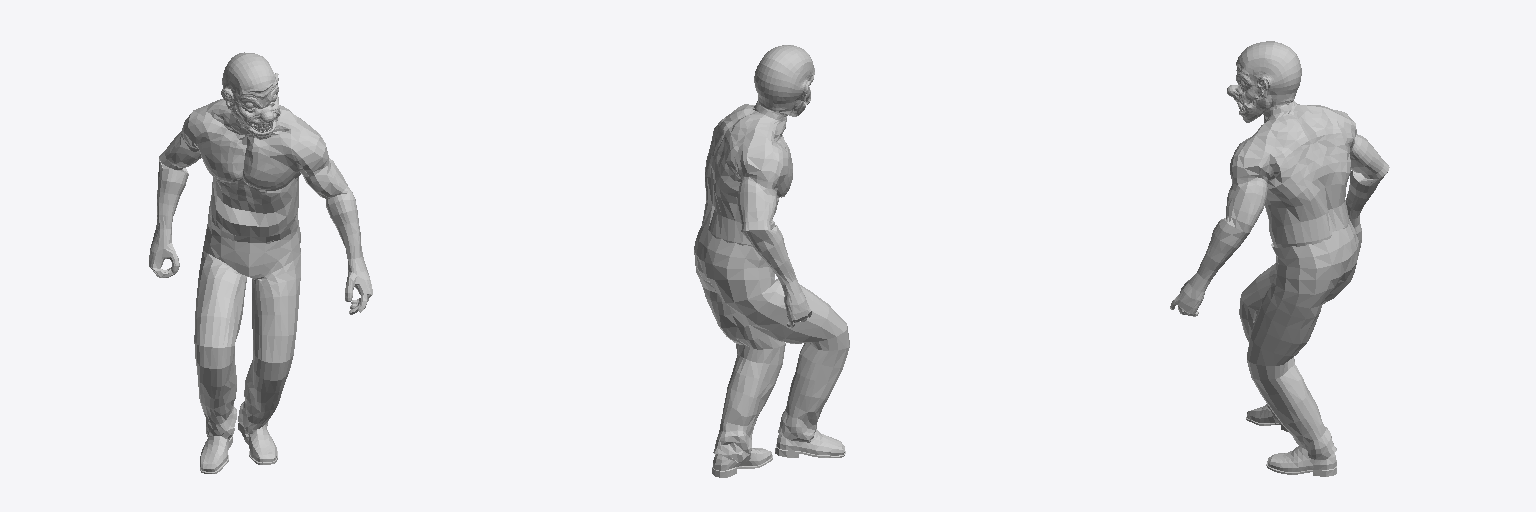
File: Walk (23).obj
The picture shows the model from 3 angles: view 1: azimuth 30°, elevation 25°; view 2: azimuth 150°, elevation 25°; view 3: azimuth 270°, elevation 25°; orthographic projection.
Parts seen in each view (by area): view 1: torso, pants, head, shoe_01, shoe_02; view 2: pants, torso, head, shoe_01, shoe_02; view 3: torso, pants, head, shoe_02.
Part boxes in pixels (x1,y1,x2,y2): torso: (149, 99, 372, 314); pants: (194, 201, 300, 439); head: (221, 52, 280, 139); shoe_01: (200, 436, 232, 473); shoe_02: (244, 425, 277, 464); pants: (694, 225, 849, 462); torso: (702, 101, 811, 327); head: (754, 45, 814, 116); shoe_01: (775, 429, 845, 457); shoe_02: (712, 448, 772, 477); torso: (1170, 101, 1389, 316); pants: (1239, 219, 1359, 459); head: (1227, 41, 1301, 122); shoe_02: (1266, 446, 1336, 476).
Size of the model in its own units: 64.53 by 173 by 83.25.